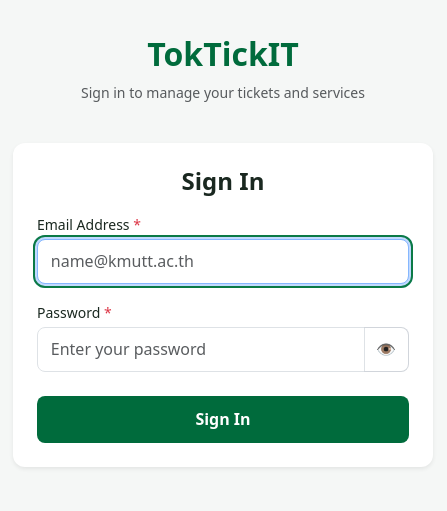
UI-01: Login Form Validation & Busy States (FR-01, AC-3.1) › displays inline validation error for malformed email
Type "invalid-email-format" into the field labelled "Email Address *". click: point(223, 261)
box: [37,238,409,284]
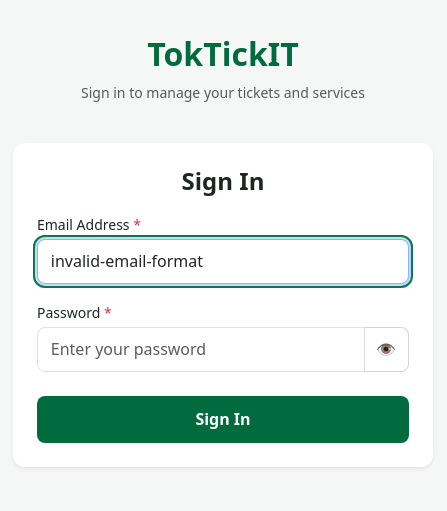
Click the button "Sign In". click: point(223, 419)
box: [37,396,409,443]
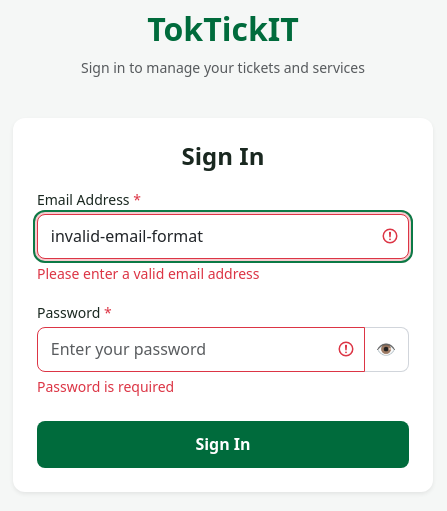
Expected: the text "Please enter a valid email address" is shown, [37,264,260,283]
